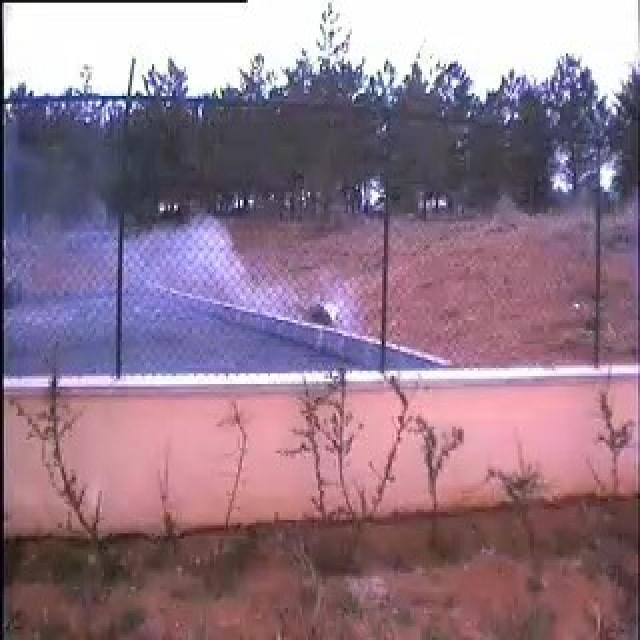smoke: (63, 198, 320, 368)
